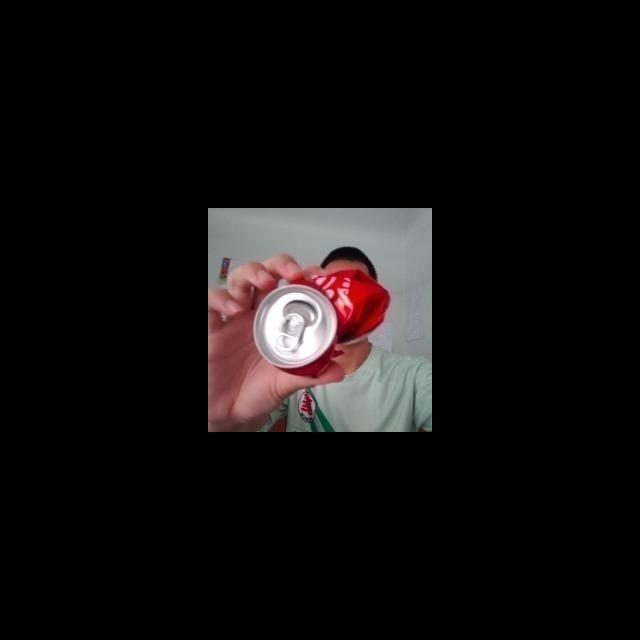metal: (247, 267, 393, 379)
